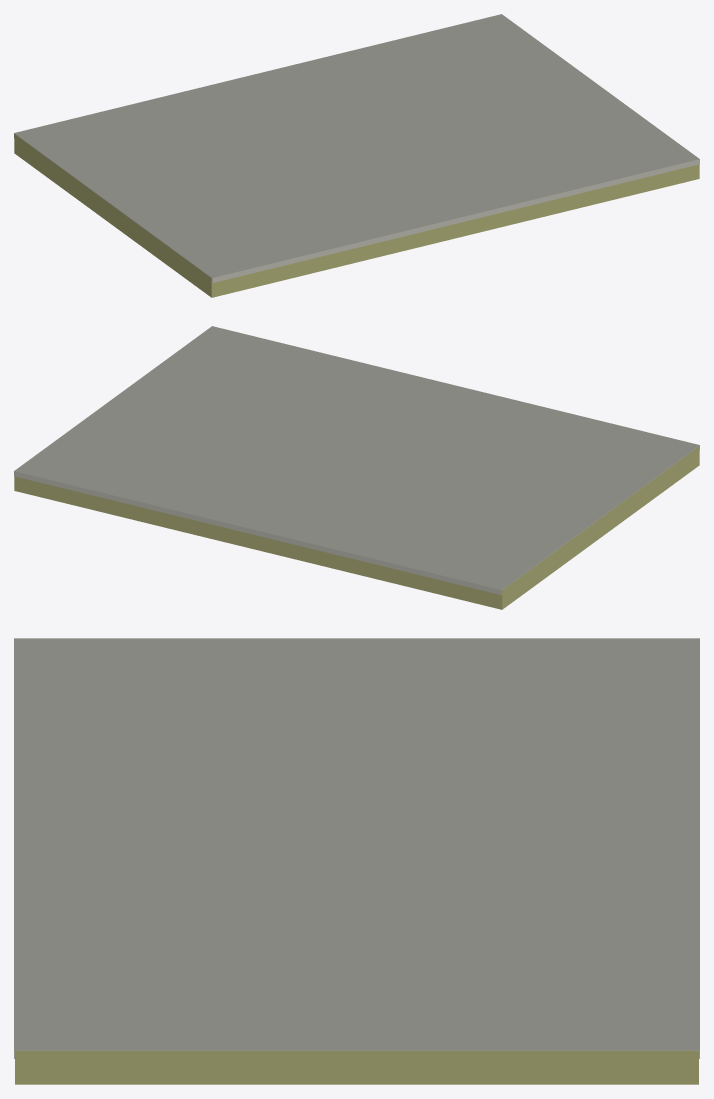
File: SM_KitAnden_F7_v1_LOD0.fbx
The picture shows the model from 3 angles, top to bottom: view 1: azimuth 30°, elevation 25°; view 2: azimuth 150°, elevation 25°; view 3: azimuth 270°, elevation 25°; orthographic projection. The views are drawn at different scales.
Visible parts, largest first — view 1: SM_kit_anden_v1_LOD0; view 2: SM_kit_anden_v1_LOD0; view 3: SM_kit_anden_v1_LOD0.
Boxes of the visible parts, bbox=[...] form: SM_kit_anden_v1_LOD0: bbox=[14, 14, 699, 297]; SM_kit_anden_v1_LOD0: bbox=[14, 326, 699, 609]; SM_kit_anden_v1_LOD0: bbox=[14, 638, 699, 1084].
Size of the model in its own units: 9.98 by 0.39 by 7.02.
